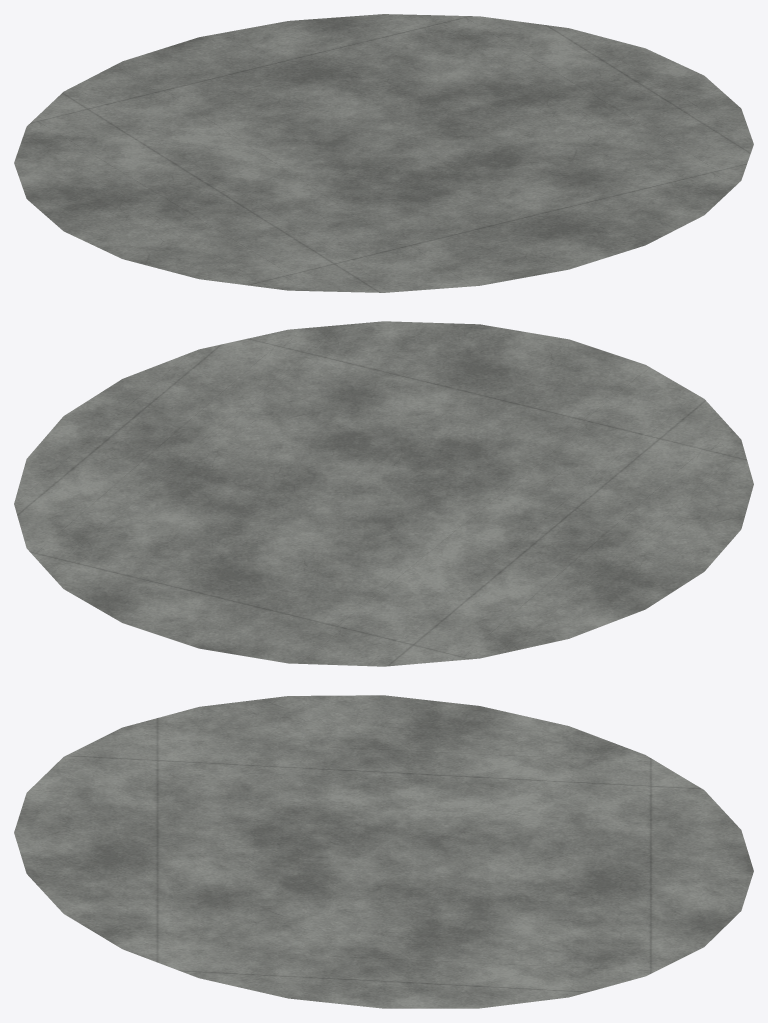
The model's file is INT-J-010.obj.
3 views of the same model, one above another, from view 1: azimuth 30°, elevation 25°; view 2: azimuth 150°, elevation 25°; view 3: azimuth 270°, elevation 25° (orthographic).
Visible parts, largest first — view 1: INT-J-010; view 2: INT-J-010; view 3: INT-J-010.
Boxes of the visible parts, left/top/right/bottom form: INT-J-010: left=14, top=14, right=753, bottom=292; INT-J-010: left=14, top=321, right=753, bottom=666; INT-J-010: left=14, top=695, right=753, bottom=1008.
Size of the model in its own units: 6 by 0.3438 by 6.
1 material, 1 textured.
